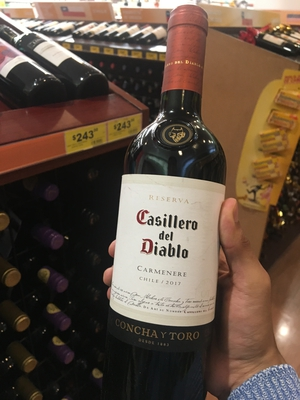casillero del diablo carmenere: (91, 20, 248, 395)
